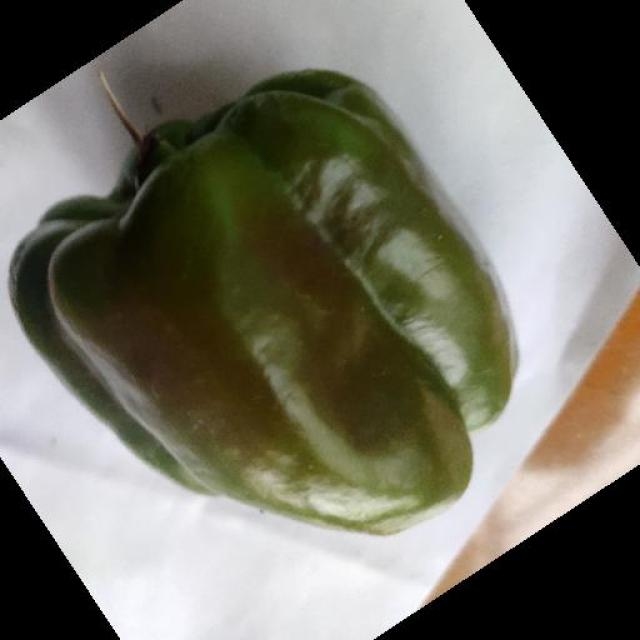Stale_Capsicum: (20, 118, 499, 574)
